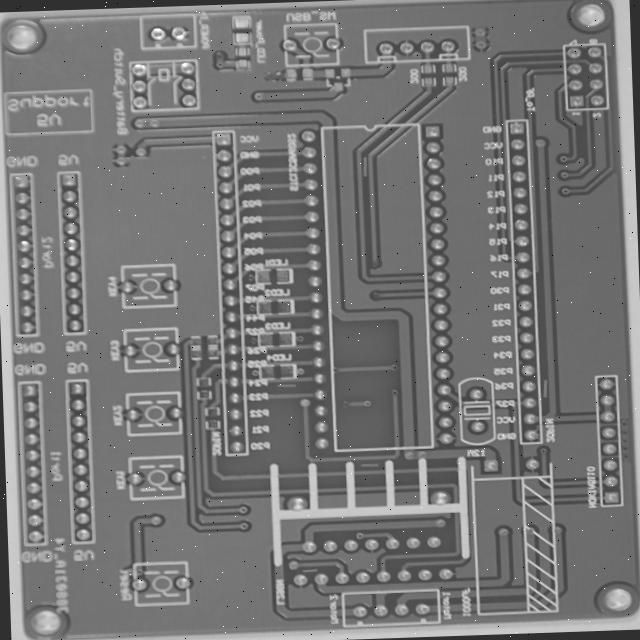spurious_copper: (583, 390, 603, 420), (385, 159, 407, 186), (319, 590, 350, 605), (386, 480, 416, 495), (298, 396, 325, 411)
